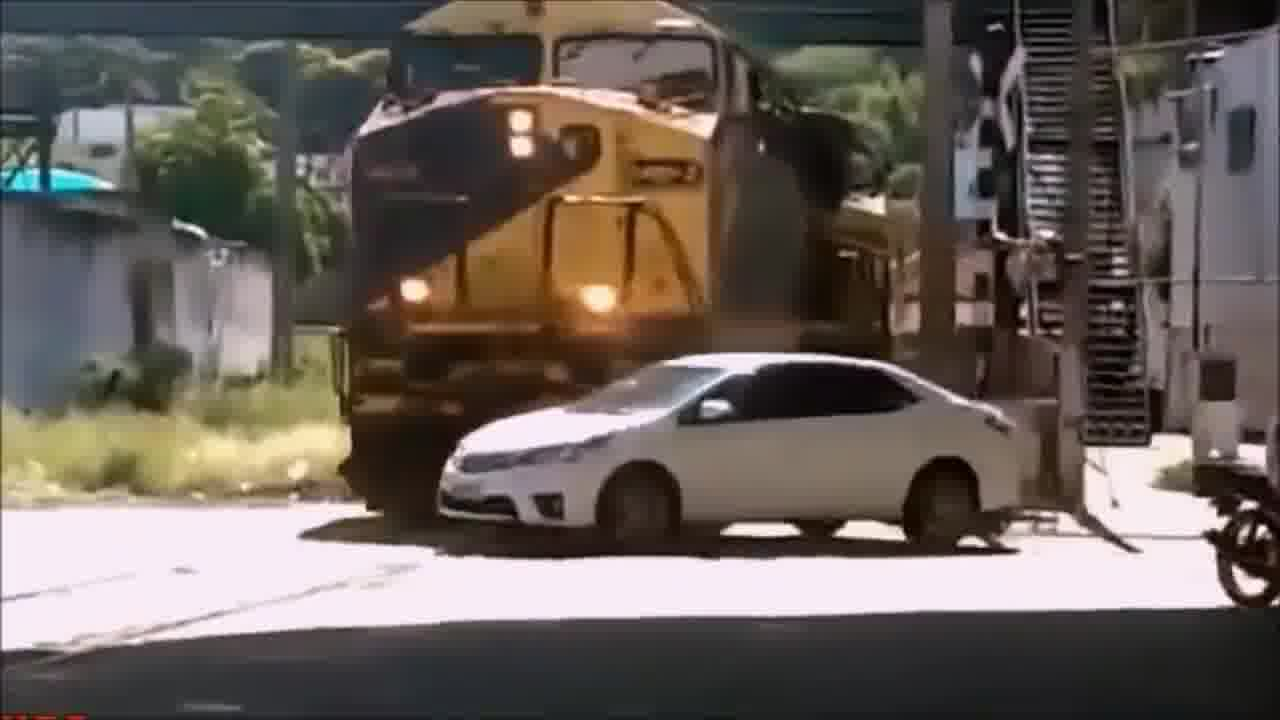crossing railway track: (436, 333, 1050, 568)
